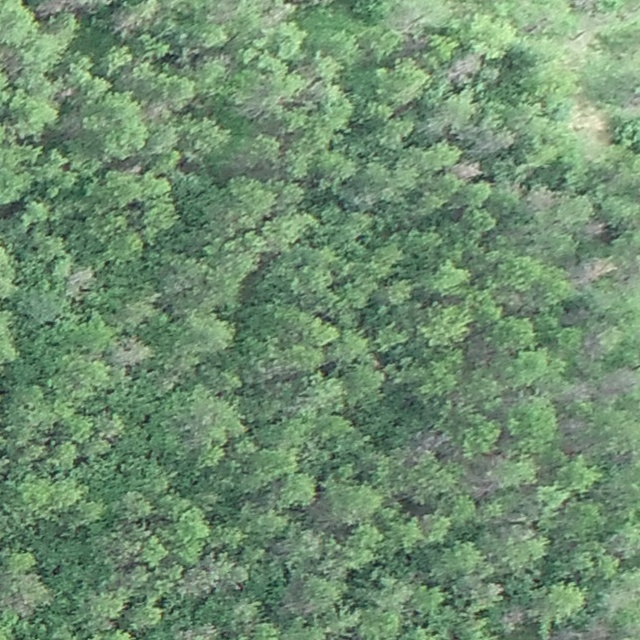unhealthy: (404, 429, 452, 459), (112, 3, 155, 35), (110, 336, 152, 367), (445, 51, 482, 84), (600, 364, 638, 396), (34, 0, 101, 17), (576, 256, 615, 284), (471, 129, 512, 154), (467, 469, 500, 499), (545, 624, 605, 640), (525, 184, 558, 212), (561, 378, 594, 402), (175, 623, 220, 640), (558, 415, 589, 437), (452, 159, 482, 181), (500, 606, 527, 628), (583, 219, 608, 240)
